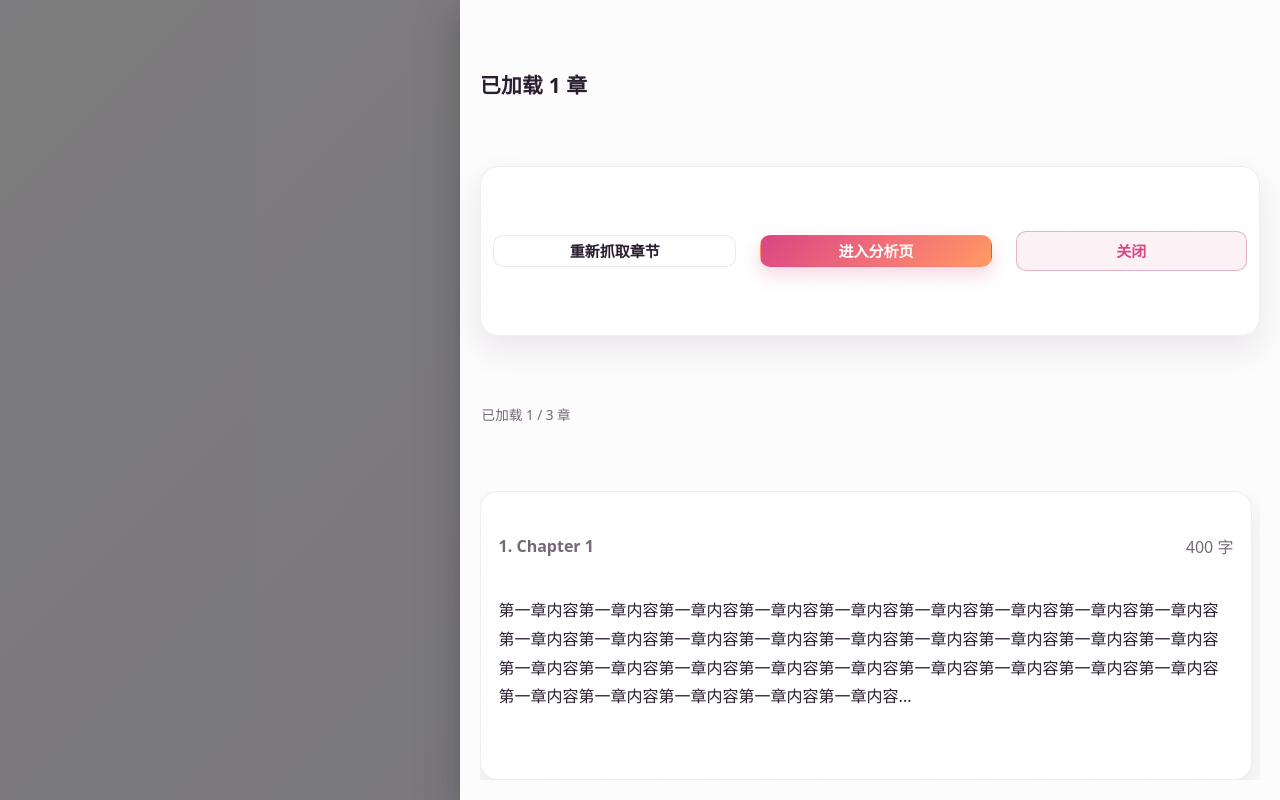
Test case: ChapterPreviewDrawer › shows excerpt list then opens full chapter detail
Click the element with test id "chapter-item-1" at {"x": 866, "y": 636}, box top-left (480, 491), bottom-right (1252, 780)
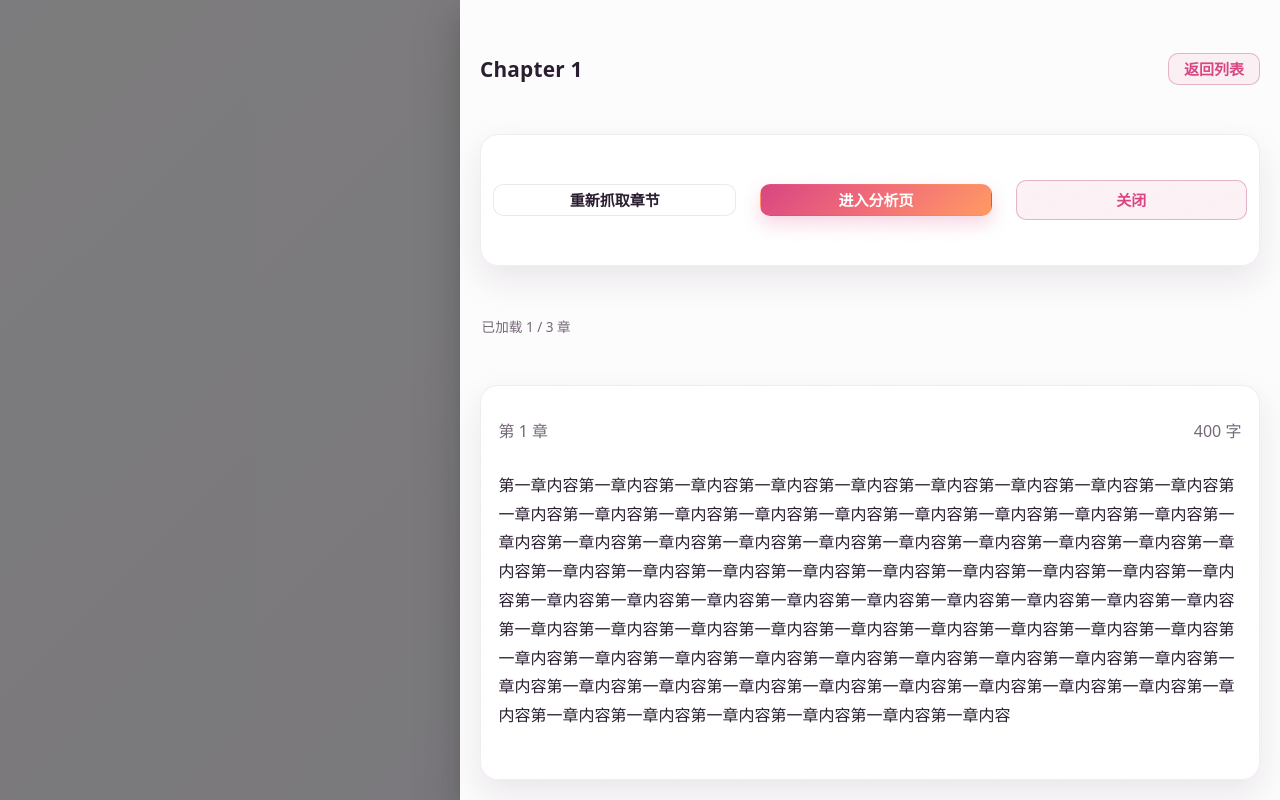
expect the button with test id "chapter-back" is shown: met, box top-left (1168, 53), bottom-right (1260, 85)
